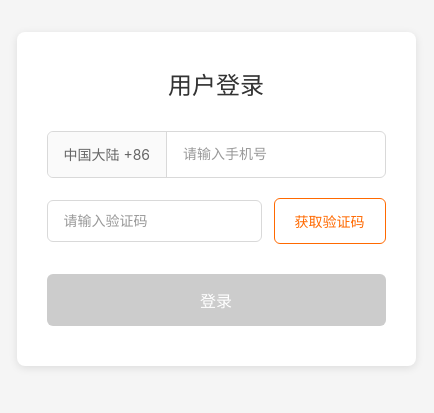
Test: LoginForm Component › 验证码错误应该显示错误信息
Type "13812345678" into the field with test id "phone-input" at (274, 154), box [167, 134, 380, 174]
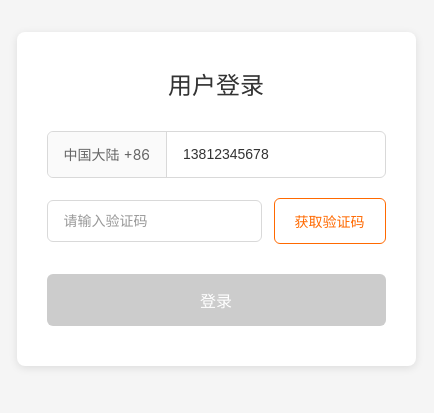
Type "000000" into the field with test id "verification-code-input" at (154, 221), box [46, 200, 262, 242]
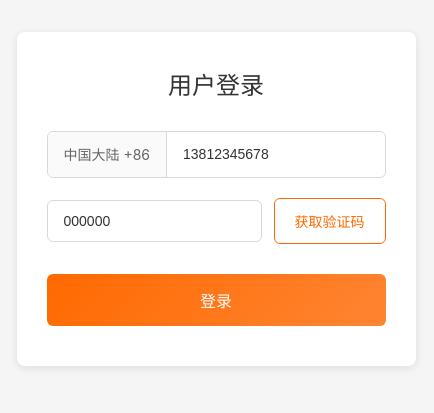
Click the button with test id "login-submit-button" at (216, 300), box [46, 274, 386, 326]
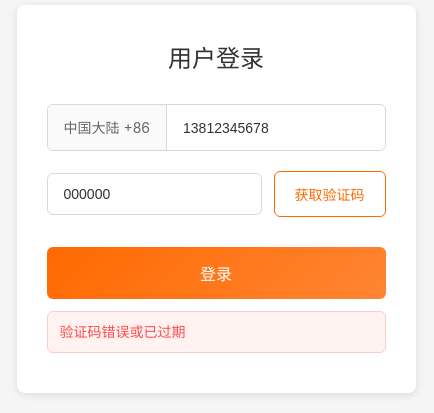
Result: the text with test id "login-error" reads "验证码错误或已过期" at [60, 323, 186, 340]
